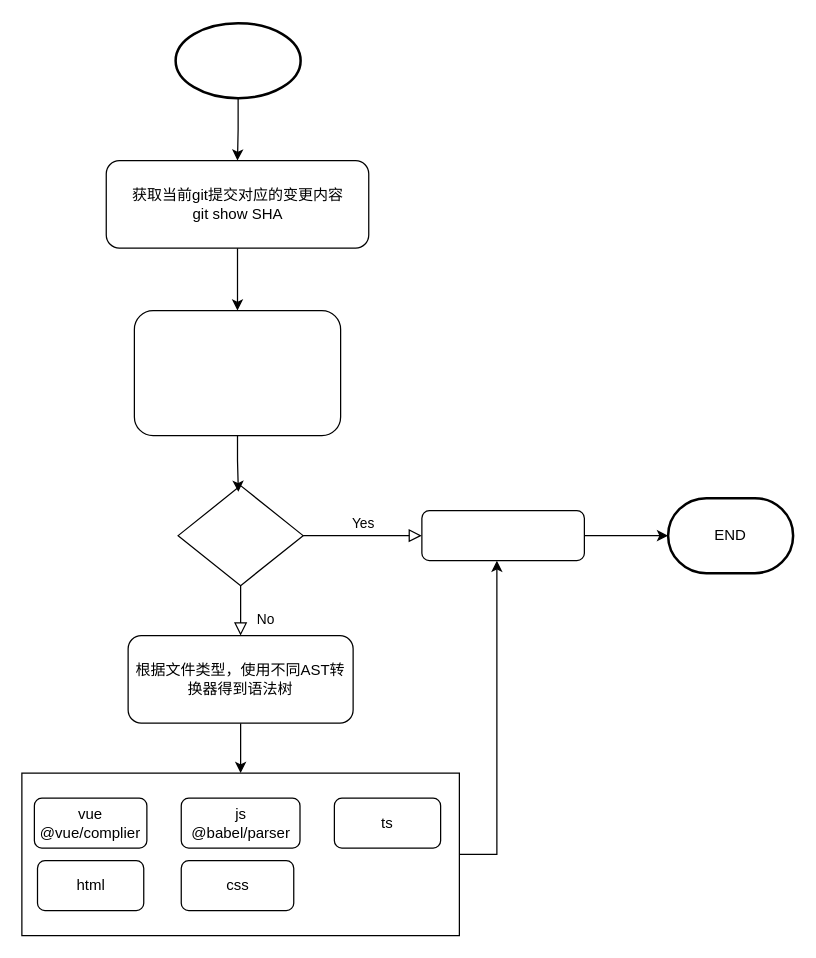
Image size: 816x958. Some labels were removed from this diagram. Each missing label, with the centre of its shape:
START: the point at 237,60
是否删除: the point at 240,535
根据变更文件内容获取 1、文件类型 2、文件修改内容 3、文件变更/删除行数: the point at 237,372
根据计算规则进行积分: the point at 502,535
